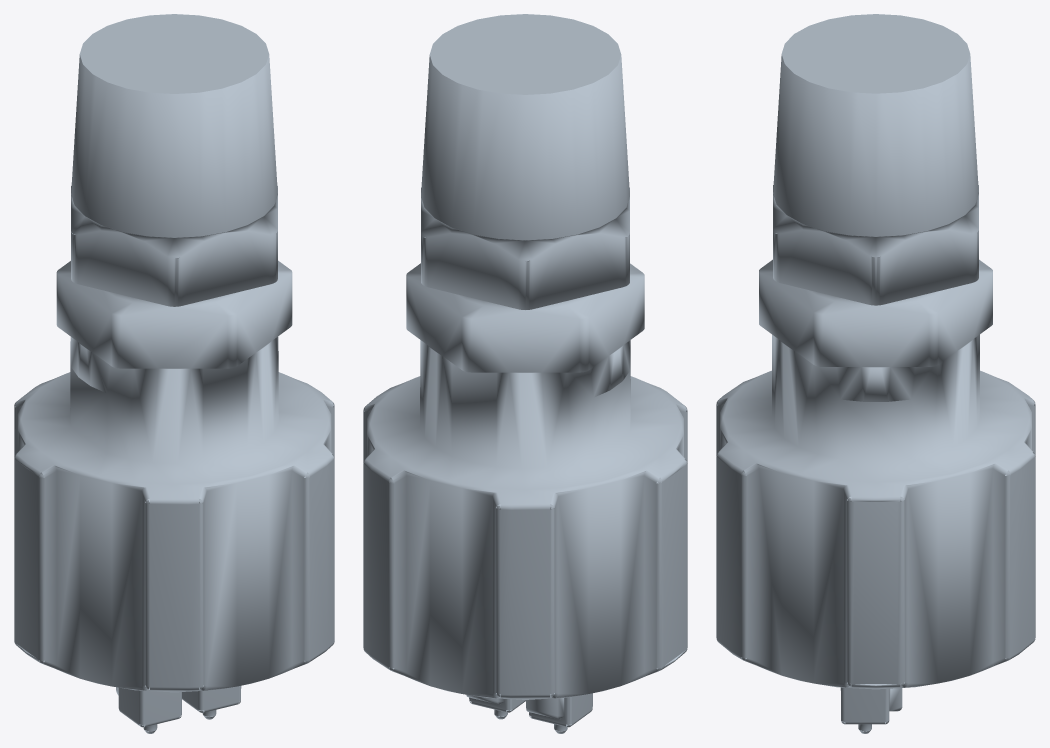
Rendered from optic_fiber.fbx.
The picture shows the model from 3 angles, left to right: view 1: azimuth 30°, elevation 25°; view 2: azimuth 150°, elevation 25°; view 3: azimuth 270°, elevation 25°; orthographic projection.
Parts seen in each view (by area): view 1: OpticFiber; view 2: OpticFiber; view 3: OpticFiber.
Part boxes in pixels (box(x1,y1,x2,y2)): OpticFiber: box(14, 14, 334, 733); OpticFiber: box(363, 14, 687, 733); OpticFiber: box(716, 14, 1035, 733).
Size of the model in its own units: 3148 by 6736 by 2933.
